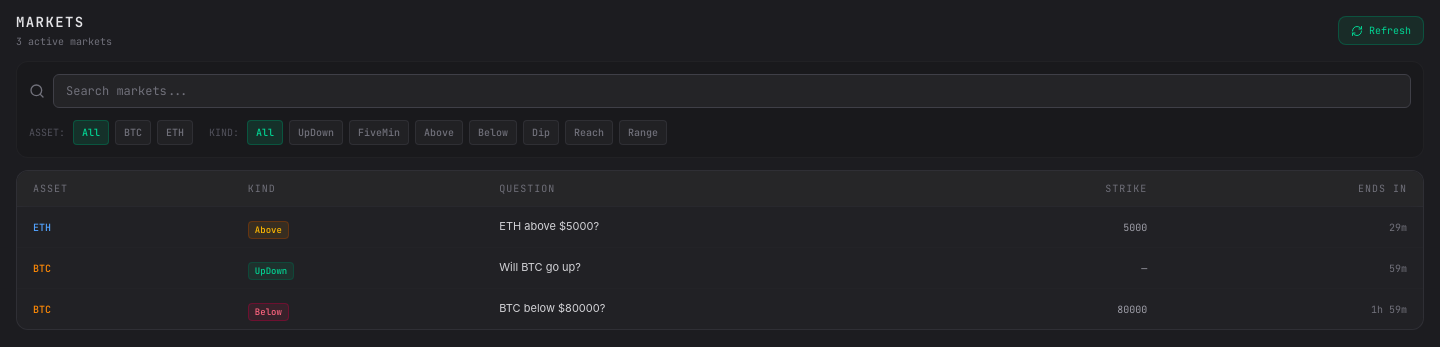
Test: markets-list › filters by free-text search
Expected: the text "Will BTC go up?" is shown, [483, 248, 926, 288]
Type "below" into the field with placeholder "Search markets...".
click(732, 91); type("below")  # box [53, 74, 1411, 108]
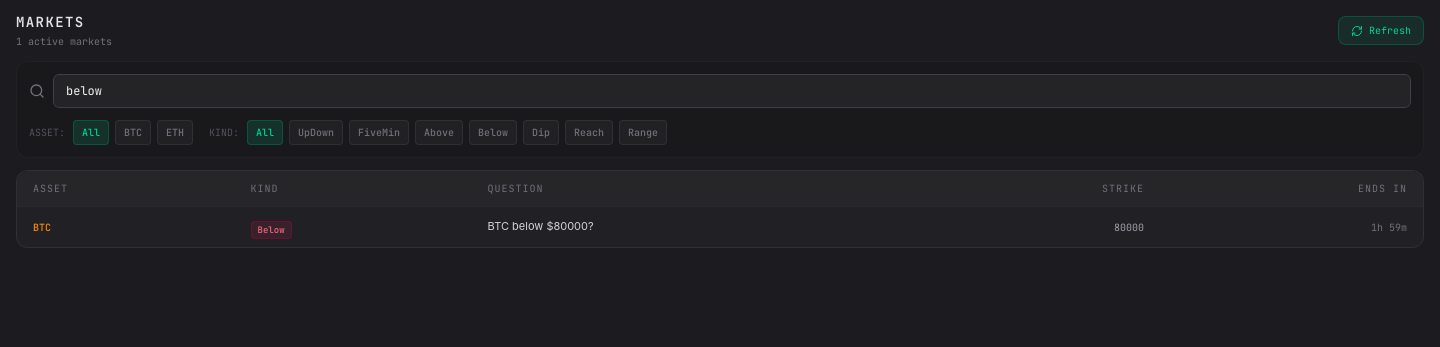
Expected: the text "BTC below $80000?" is shown, [472, 206, 920, 247]
Now the text "Will BTC go up?" is gone
